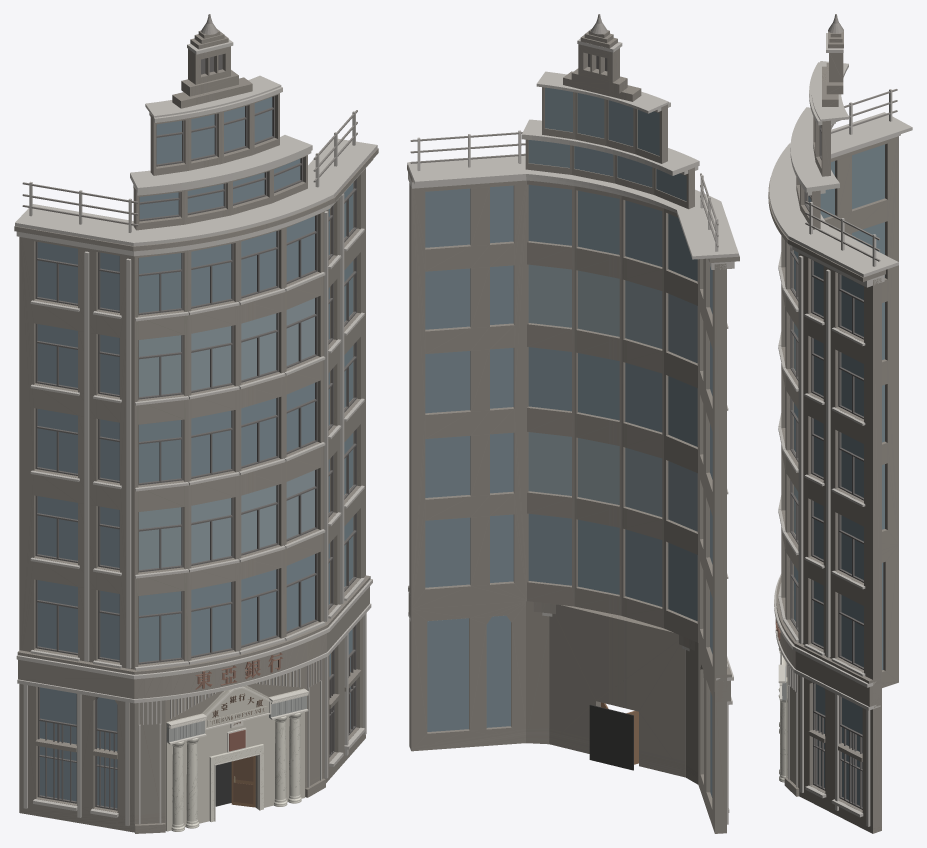
The model's file is huangpu-bank-of-east-asia-corner-raw.glb.
3 renders of one model, left to right at view 1: azimuth 30°, elevation 25°; view 2: azimuth 150°, elevation 25°; view 3: azimuth 270°, elevation 25°, orthographic. The views are drawn at different scales.
Visible parts, largest first — view 1: 东亚大楼四柱门廊及转角立面; view 2: 东亚大楼四柱门廊及转角立面; view 3: 东亚大楼四柱门廊及转角立面.
Boxes of the visible parts, left/top/right/bottom form: 东亚大楼四柱门廊及转角立面: left=14, top=14, right=378, bottom=833; 东亚大楼四柱门廊及转角立面: left=407, top=14, right=739, bottom=833; 东亚大楼四柱门廊及转角立面: left=768, top=14, right=912, bottom=833.
Bounding box in the file's own units: 15.74 × 33.28 × 5.88.
Materials: 20 (1 with a texture image).
